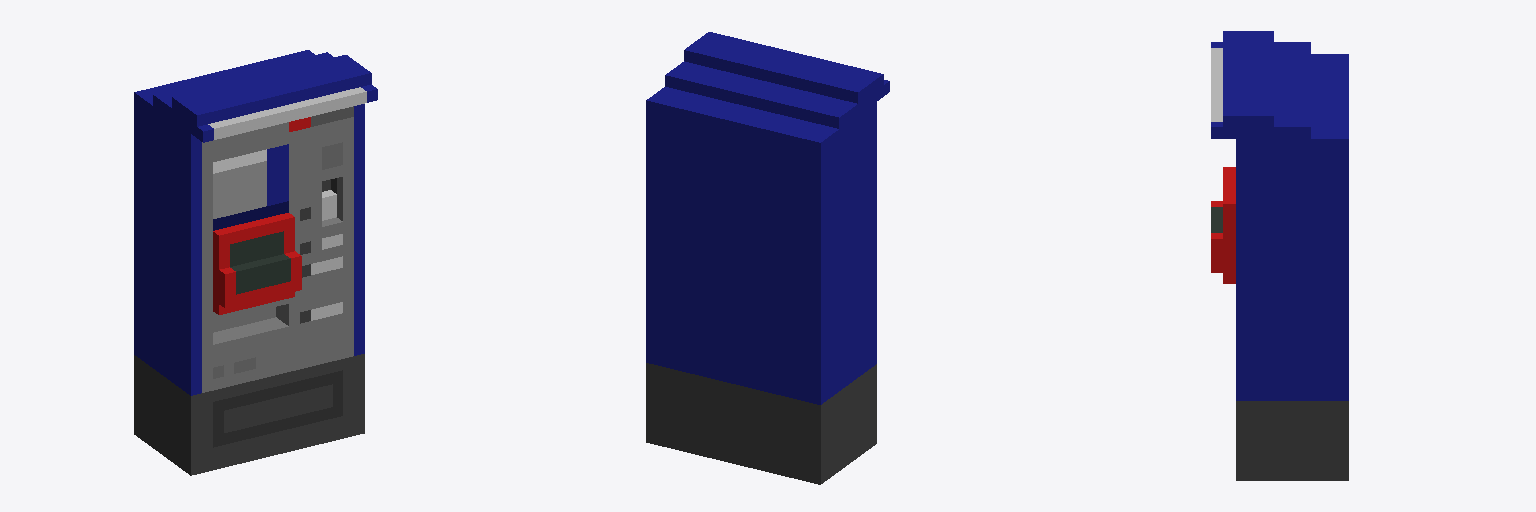
3 views of the same model, side by side, from view 1: azimuth 30°, elevation 25°; view 2: azimuth 150°, elevation 25°; view 3: azimuth 270°, elevation 25° (orthographic).
Parts seen in each view (by area): view 1: object 1; view 2: object 1; view 3: object 1.
Boxes of the visible parts, box(x1,y1,x2,y2) form: object 1: box(134, 50, 377, 475); object 1: box(646, 32, 889, 484); object 1: box(1211, 31, 1348, 480).
Bounding box in the file's own units: 1.6 × 3.2 × 1.1.
1 materials, 1 textured.